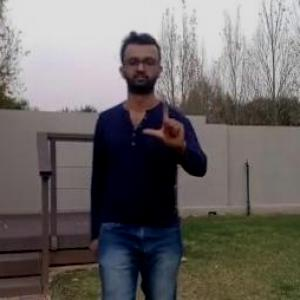land_hand: (143, 88, 189, 152)
